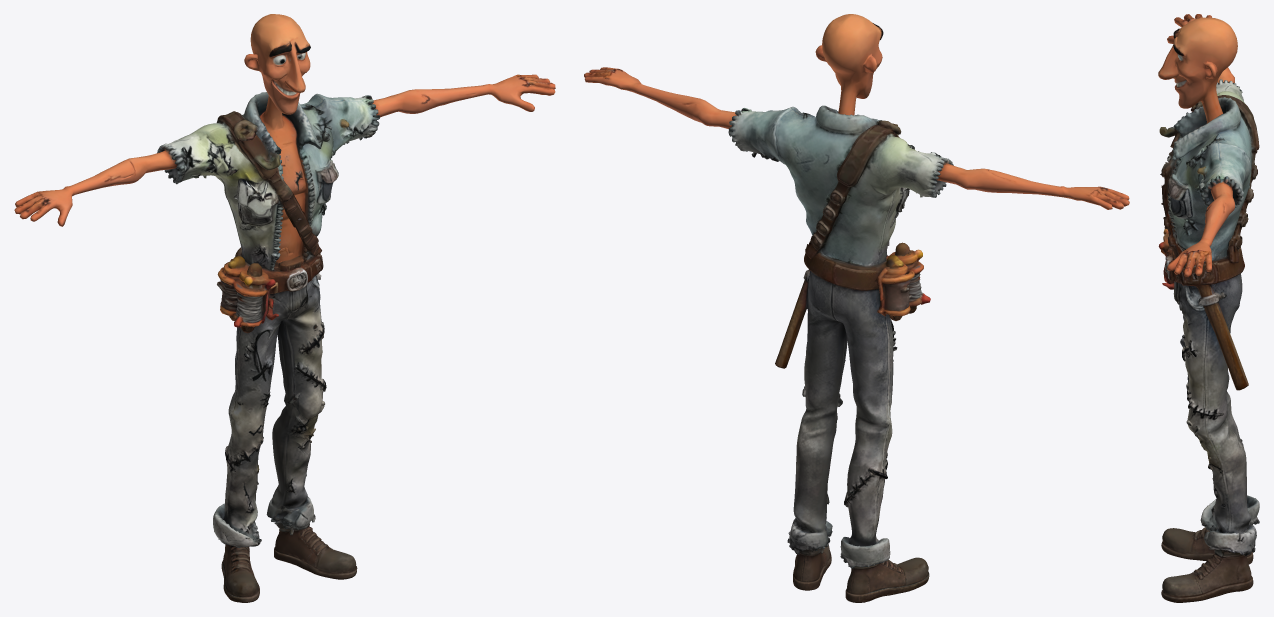
Rendered from spool.glb.
3 views of the same model, side by side, from view 1: azimuth 30°, elevation 25°; view 2: azimuth 150°, elevation 25°; view 3: azimuth 270°, elevation 25° (orthographic).
Parts seen in each view (by area): view 1: tripo_node_746eaa20-65b8-4c67-8d9d-c28d306c1ab6; view 2: tripo_node_746eaa20-65b8-4c67-8d9d-c28d306c1ab6; view 3: tripo_node_746eaa20-65b8-4c67-8d9d-c28d306c1ab6.
Boxes of the visible parts, bbox=[...] form: tripo_node_746eaa20-65b8-4c67-8d9d-c28d306c1ab6: bbox=[14, 14, 555, 602]; tripo_node_746eaa20-65b8-4c67-8d9d-c28d306c1ab6: bbox=[584, 14, 1129, 602]; tripo_node_746eaa20-65b8-4c67-8d9d-c28d306c1ab6: bbox=[1158, 14, 1259, 602].
Bounding box in the file's own units: 0.9806 × 0.9772 × 0.1622.
Materials: 1 (1 with a texture image).
